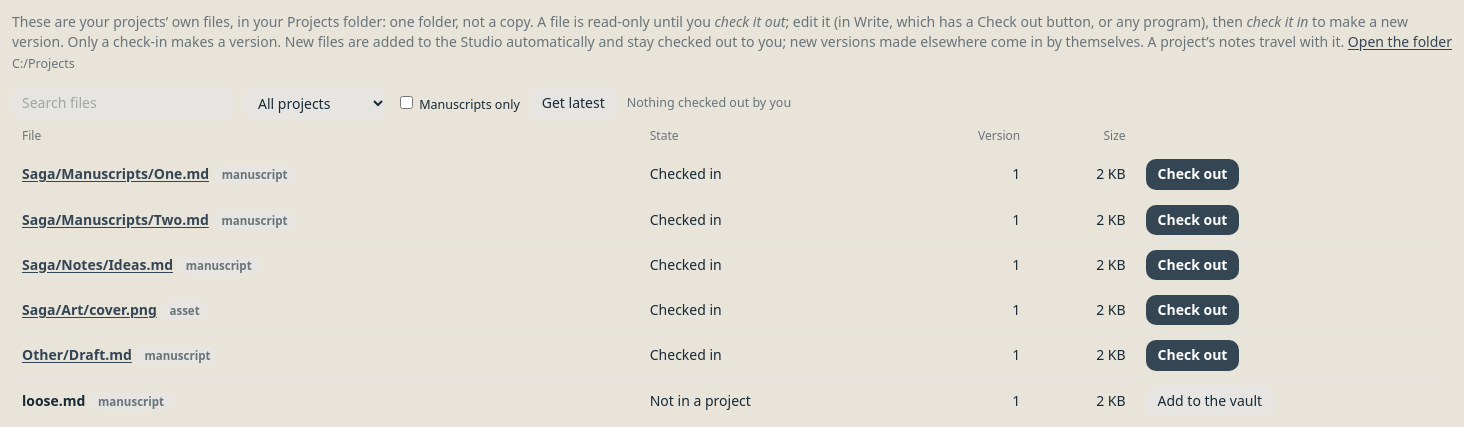
Test: the Files page’s filters › says how to set a manuscript when none is set, instead of an empty page
Click the checkbox labelled "Manuscripts only": (406, 102) [400,96,413,109]
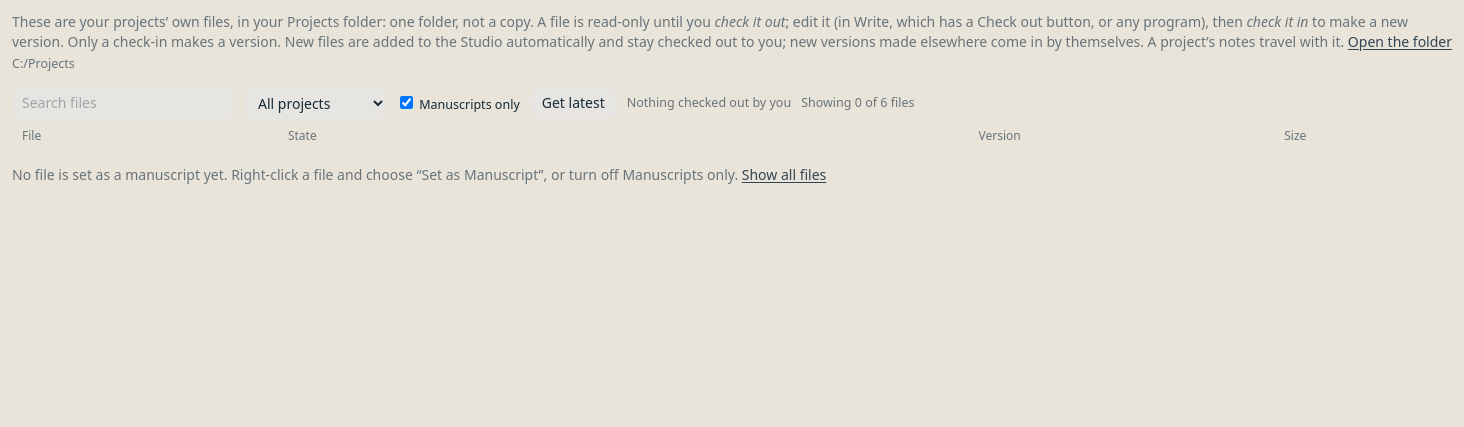
Now the text "No file is set as a manuscript yet" is shown, box [12,165,738,184]
Now the text "Set as Manuscript" is shown, box [12,165,738,184]
